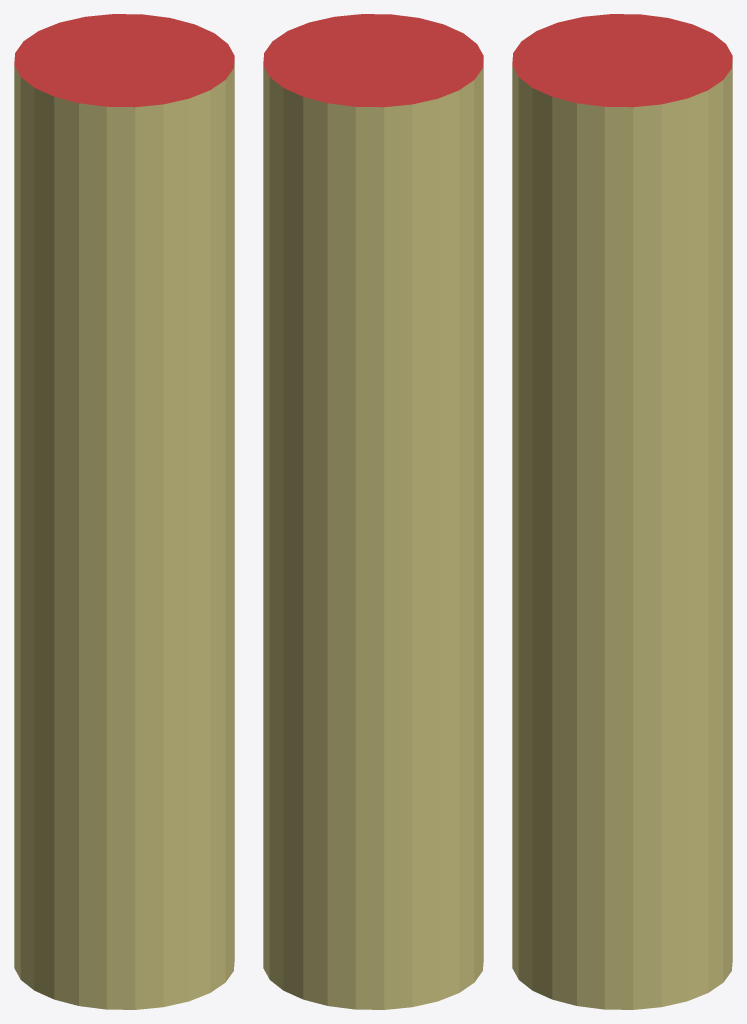
3 renders of one model, left to right at view 1: azimuth 30°, elevation 25°; view 2: azimuth 150°, elevation 25°; view 3: azimuth 270°, elevation 25°, orthographic.
Bounding box in the file's own units: 5.9 × 5.9 × 26.66.
